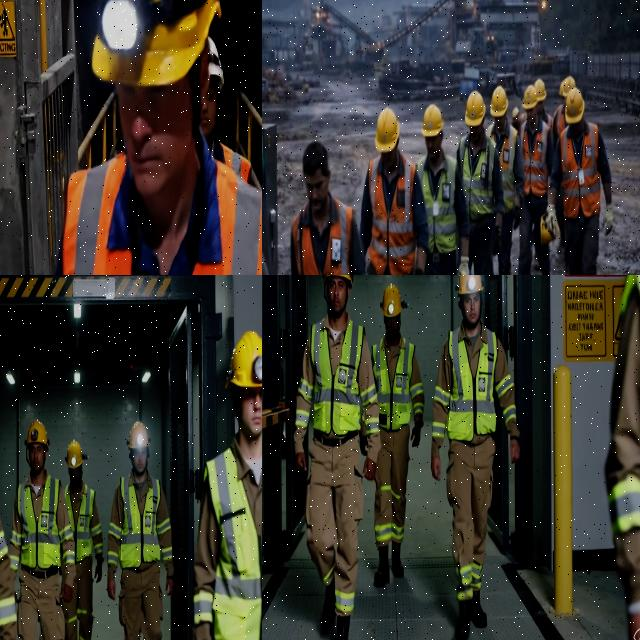Vest: (207, 449, 261, 639), (62, 155, 131, 274), (311, 320, 364, 436), (446, 327, 497, 441), (368, 154, 415, 274), (292, 197, 353, 274), (17, 476, 60, 569), (417, 155, 457, 254), (560, 122, 600, 219), (372, 339, 414, 431), (120, 477, 160, 568), (459, 136, 495, 221), (66, 485, 94, 562), (522, 121, 550, 197), (610, 477, 639, 531), (500, 125, 517, 213)
Worker: (56, 0, 261, 274), (431, 275, 519, 639), (294, 275, 380, 639), (194, 332, 261, 639), (372, 285, 424, 586), (9, 421, 75, 639), (108, 422, 173, 639), (546, 88, 613, 274), (606, 275, 639, 639), (360, 108, 428, 274), (291, 142, 366, 274), (417, 104, 468, 274), (457, 91, 503, 274), (64, 441, 103, 639), (486, 86, 523, 274), (519, 85, 553, 274), (0, 518, 16, 639), (556, 191, 564, 255), (262, 253, 269, 274)
helmet: (92, 0, 220, 86), (226, 332, 261, 388), (375, 108, 399, 153), (381, 284, 407, 317), (465, 91, 485, 127), (422, 104, 443, 137), (565, 88, 584, 124), (25, 421, 49, 448), (128, 422, 150, 449), (65, 441, 87, 468), (456, 275, 483, 296), (491, 86, 508, 117), (540, 215, 553, 245), (522, 85, 537, 110), (324, 275, 353, 287), (534, 79, 546, 102), (563, 76, 575, 97)
